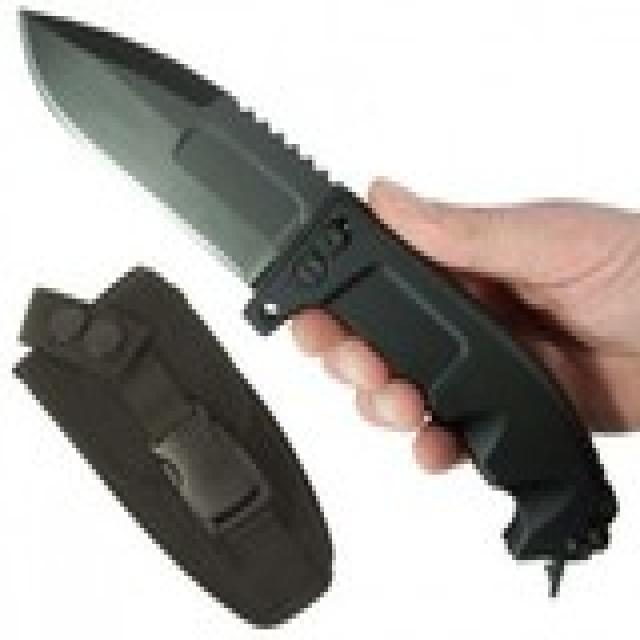Knife: (16, 4, 619, 578)
